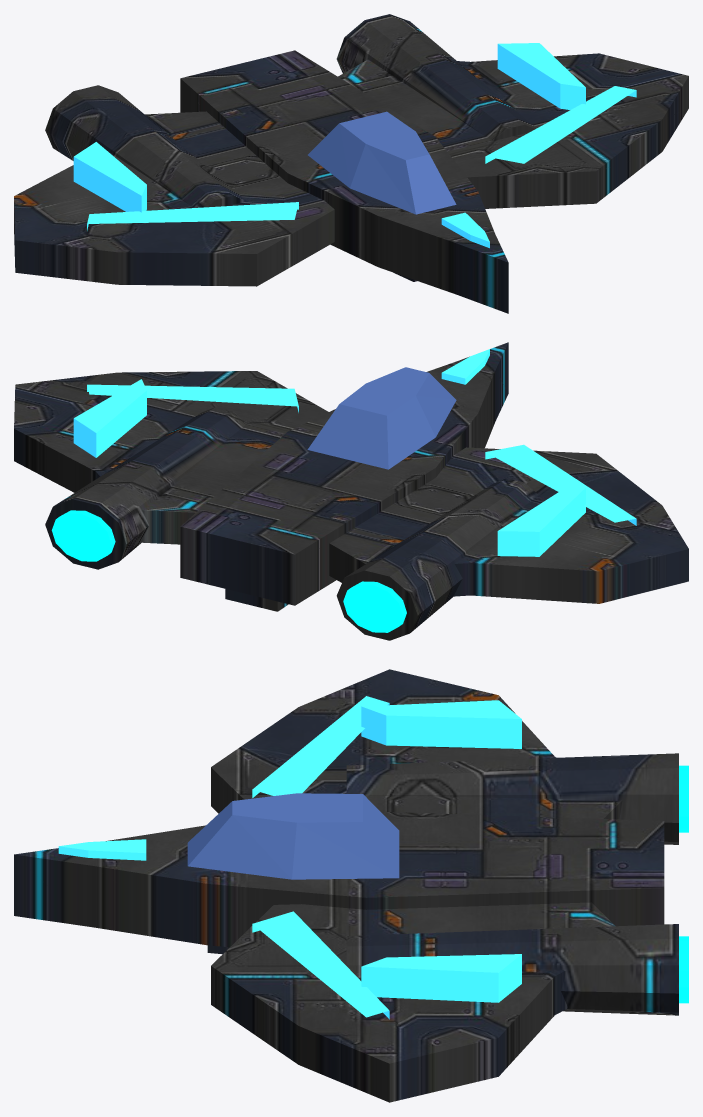
The model's file is aur-aster-kite.glb.
3 renders of one model, top to bottom at view 1: azimuth 30°, elevation 25°; view 2: azimuth 150°, elevation 25°; view 3: azimuth 270°, elevation 25°, orthographic. The views are drawn at different scales.
Parts seen in each view (by area): view 1: hull_textured, accent_energy, canopy_glass; view 2: hull_textured, accent_energy, canopy_glass, engine_glow; view 3: hull_textured, accent_energy, canopy_glass, engine_glow.
Part boxes in pixels (x1,y1,x2,y2): hull_textured: [14, 14, 688, 313]; accent_energy: [73, 43, 636, 248]; canopy_glass: [308, 111, 456, 214]; hull_textured: [14, 342, 688, 640]; accent_energy: [73, 349, 636, 556]; canopy_glass: [307, 367, 456, 469]; engine_glow: [51, 510, 406, 632]; hull_textured: [14, 669, 678, 1102]; accent_energy: [58, 696, 521, 1019]; canopy_glass: [187, 793, 399, 879]; engine_glow: [679, 765, 688, 1003].
Bounding box in the file's own units: 5.64 × 0.91 × 4.08.
4 materials, 1 textured.
